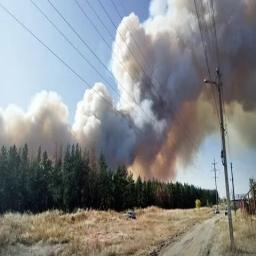Heavy smoke: (1, 7, 256, 188)
